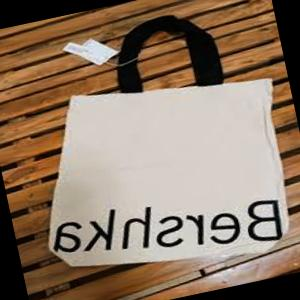bershka: (42, 195, 288, 256)
